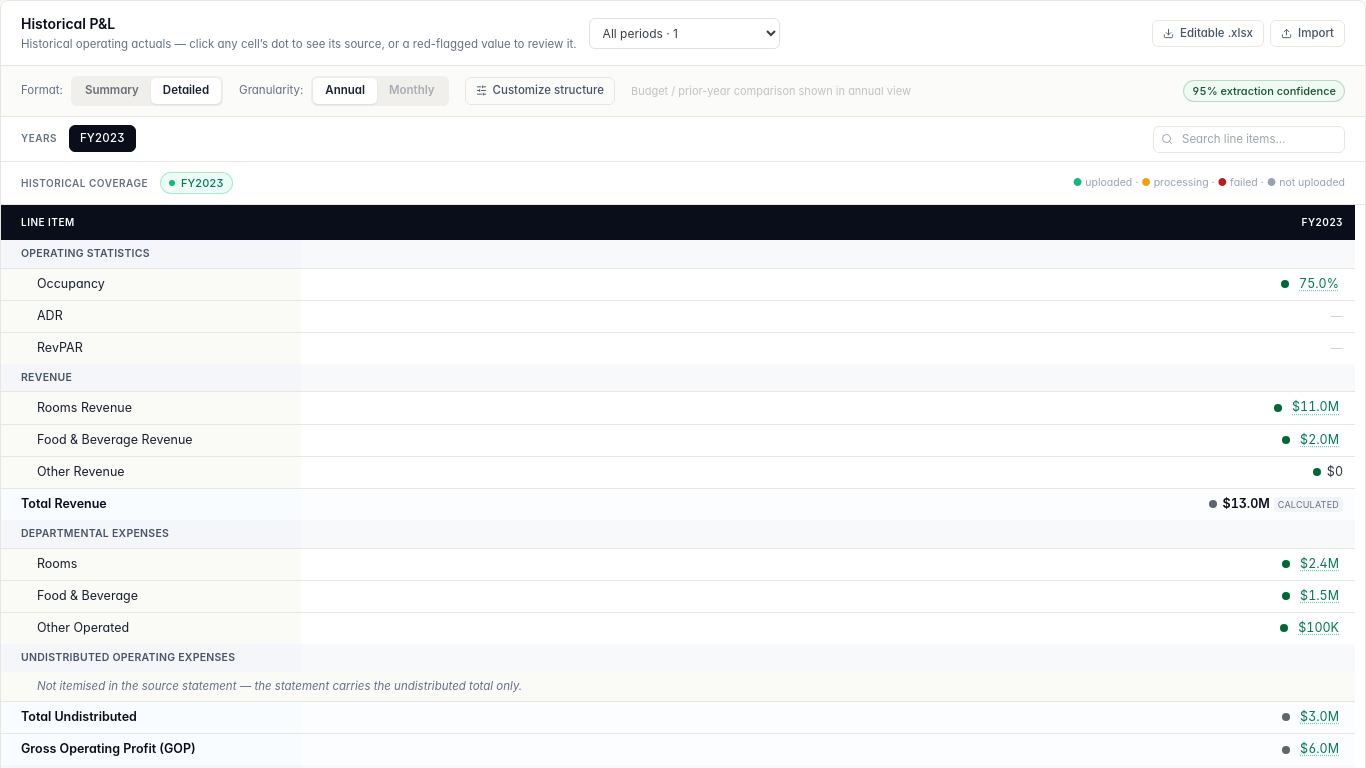
Historicals worksheet — the same correction when the statement states NO Total Revenue (FON-90 fallback) › the panel says Total Revenue re-sums here when there is no stated total
Step 1. Click the button named "Extracted — click to see its source" → (1316, 408), box [1288,398,1343,417]
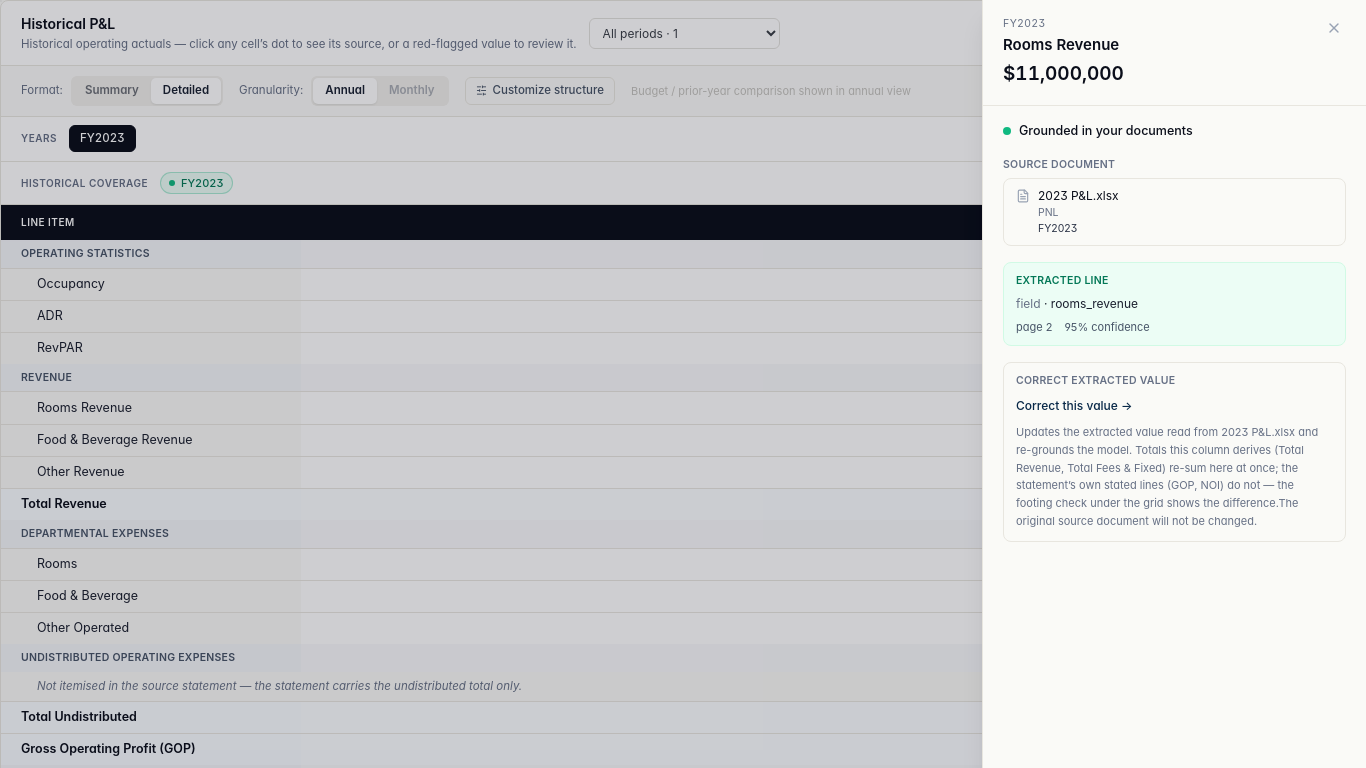
Check: the text "Totals this column derives (Total Revenue, Total Fees & Fixed) re-sum here at once" is shown, box [1016,443,1304,510]
